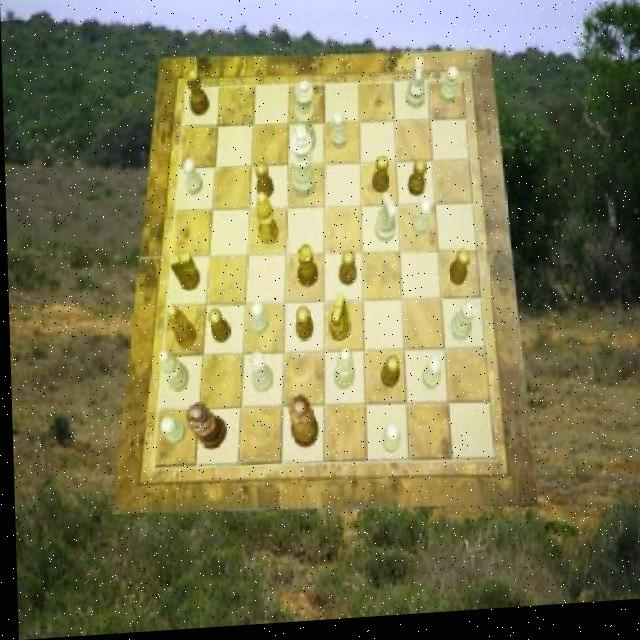bishop: (164, 305, 195, 353), (254, 197, 278, 250)
black-bishop: (184, 404, 225, 454)
black-king: (168, 255, 200, 295), (326, 299, 348, 348)
black-knight: (446, 256, 470, 293), (206, 310, 228, 346), (378, 360, 398, 395), (255, 165, 273, 203), (370, 162, 388, 200), (406, 164, 424, 201), (294, 309, 312, 344), (337, 254, 355, 289)
black-pawn: (285, 398, 316, 454)
black-queen: (183, 69, 209, 119), (295, 248, 317, 293)
black-rook: (156, 351, 187, 396), (330, 353, 352, 394)
white-bishop: (290, 128, 316, 203)
white-king: (403, 63, 424, 116), (373, 198, 395, 248)
white-knight: (439, 71, 460, 110), (182, 160, 202, 199), (411, 204, 432, 241), (158, 419, 185, 447), (420, 360, 440, 395), (329, 114, 346, 153), (378, 427, 398, 459), (249, 303, 267, 338)
white-pawn: (290, 82, 316, 158)
white-queen: (448, 303, 476, 347), (247, 354, 272, 395)
